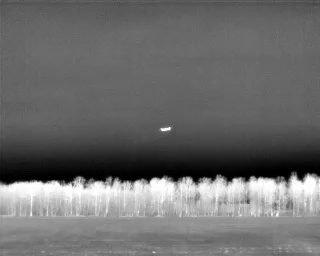DRONE: (155, 122, 176, 138)
